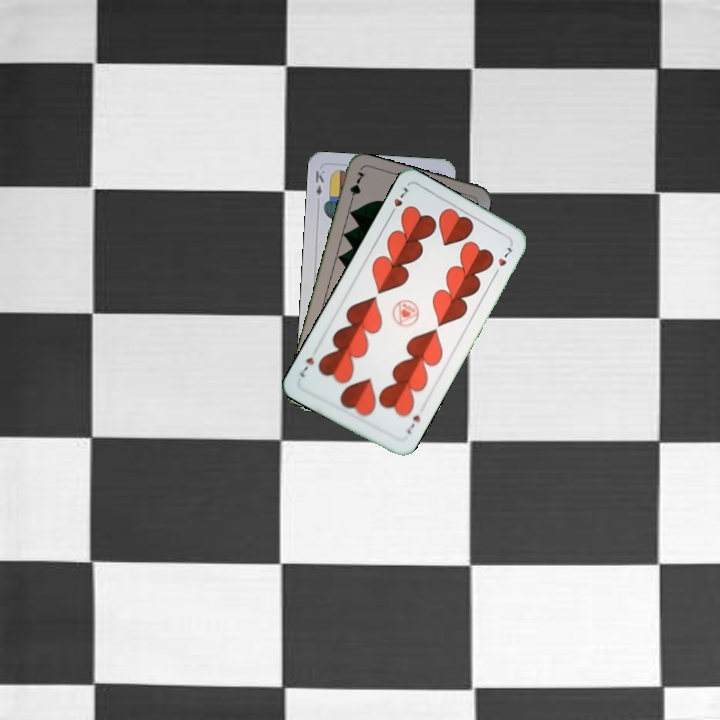EK: (311, 166, 327, 198)
G7: (346, 167, 367, 207)
H7: (385, 182, 411, 219), (402, 411, 424, 437)
